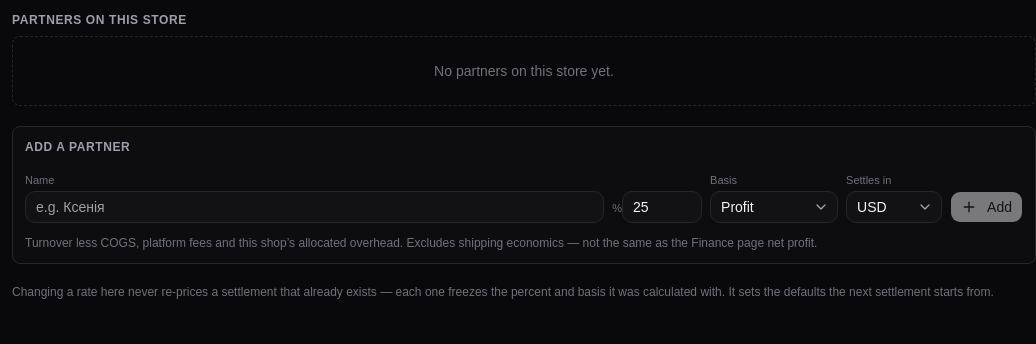
Scenario: PartnerConfigTab › refuses to add without a name or with an out-of-range percent
Check: the button "Add" is disabled, box [950,191,1023,223]
Type "Олег" into the field labelled "Name" at coordinates (315, 207), box [25,191,604,223]
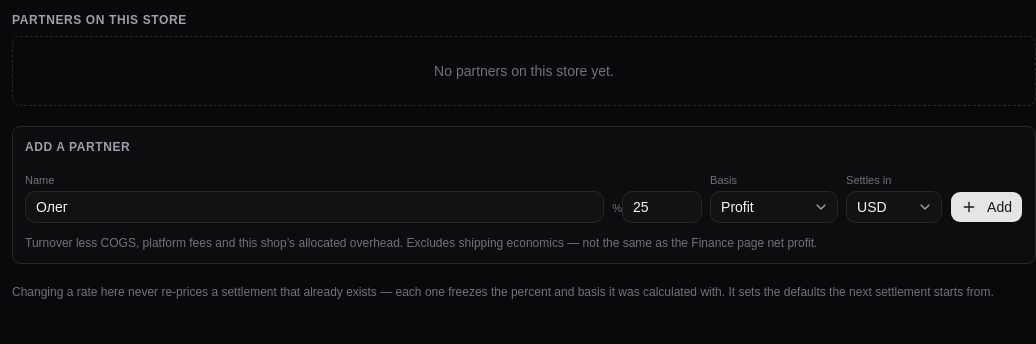
Check: the button "Add" is enabled, box [950,191,1023,223]
Replace the text in the number field labelled "%" with "120" at coordinates (662, 207), box [622,191,702,223]
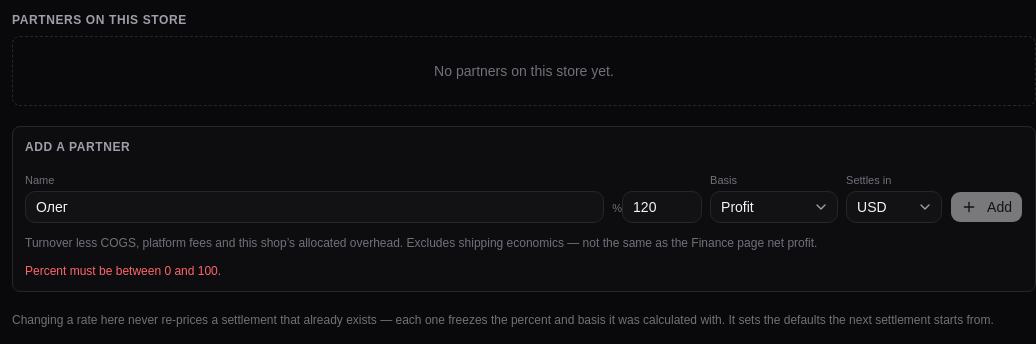
Check: the button "Add" is disabled, box [950,191,1023,223]
Check: the text "Percent must be between 0 and 100." is shown, box [25,264,221,278]
